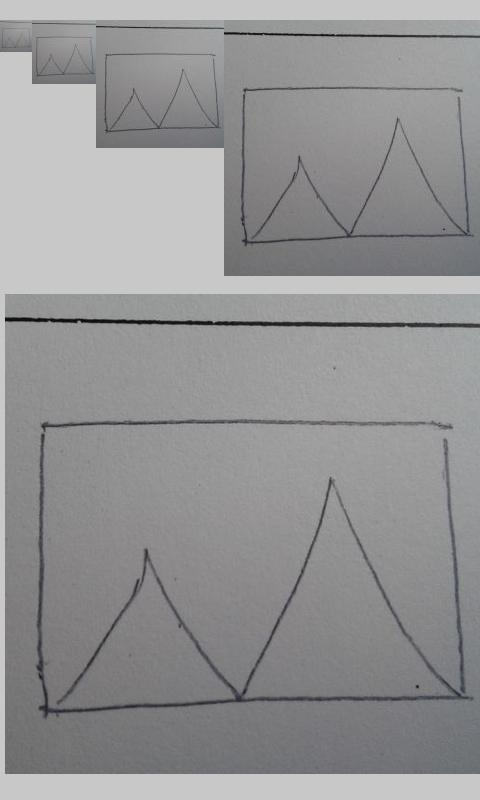image_view: (36, 418, 470, 716), (240, 84, 472, 245), (104, 52, 220, 133), (35, 36, 95, 77), (1, 27, 31, 49)
